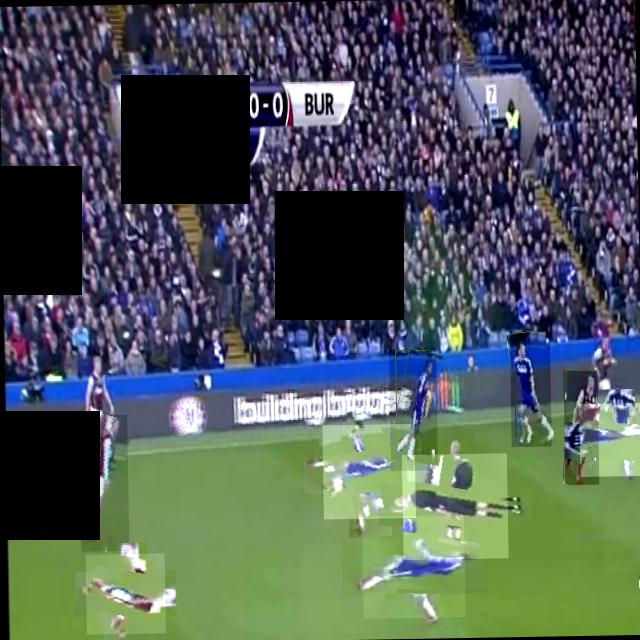referee: (400, 452, 508, 558)
soccer-player: (360, 514, 464, 618), (320, 422, 414, 518), (78, 414, 128, 550), (84, 552, 164, 633), (388, 347, 437, 470), (508, 329, 550, 446), (577, 401, 640, 475), (562, 368, 598, 484), (603, 498, 640, 571)
